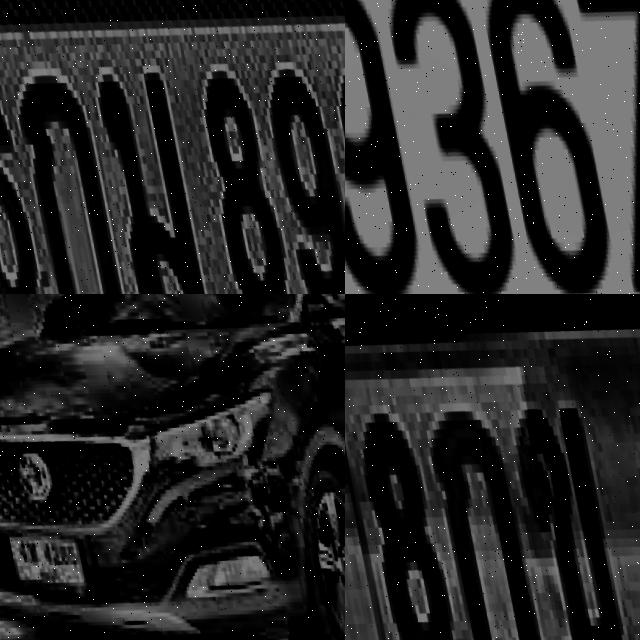license-plate: (345, 294, 640, 640), (0, 0, 345, 294), (345, 0, 640, 294), (0, 512, 93, 605)
